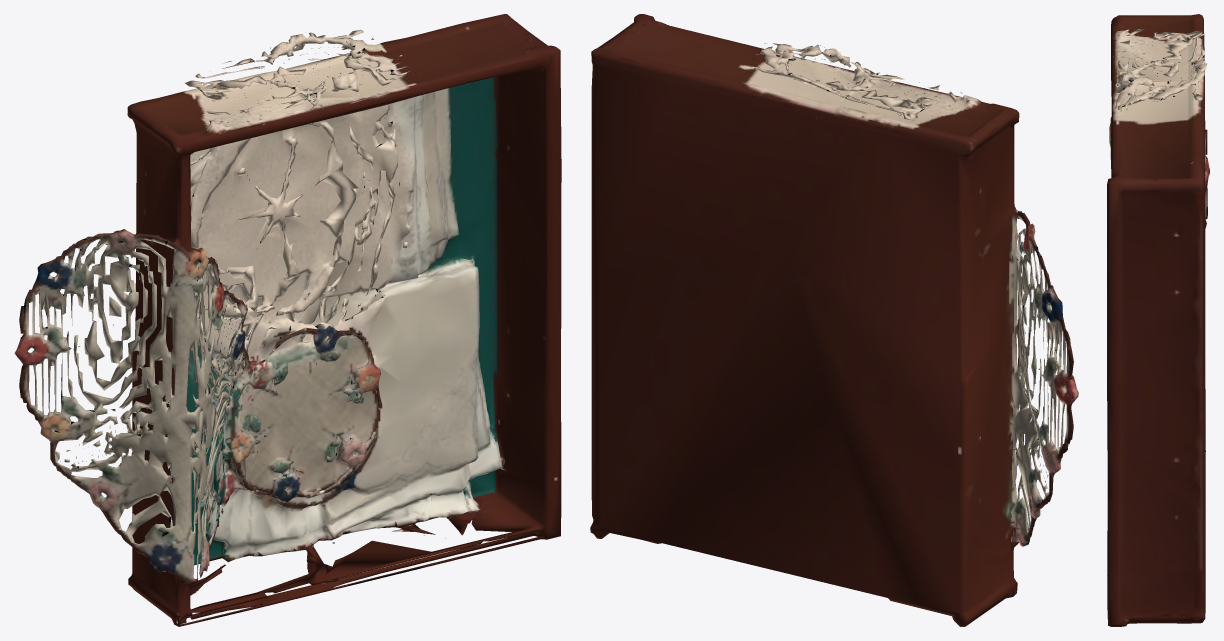
The model's file is drawer.glb.
The picture shows the model from 3 angles, left to right: view 1: azimuth 30°, elevation 25°; view 2: azimuth 150°, elevation 25°; view 3: azimuth 270°, elevation 25°; orthographic projection. The views are drawn at different scales.
Parts seen in each view (by area): view 1: low; view 2: low; view 3: low.
Boxes of the visible parts, x1,y1,x2,y2 form: low: [14, 14, 561, 626]; low: [590, 14, 1078, 626]; low: [1107, 14, 1209, 626].
Bounding box in the file's own units: 0.4488 × 0.4484 × 0.089.
1 material, 1 textured.
